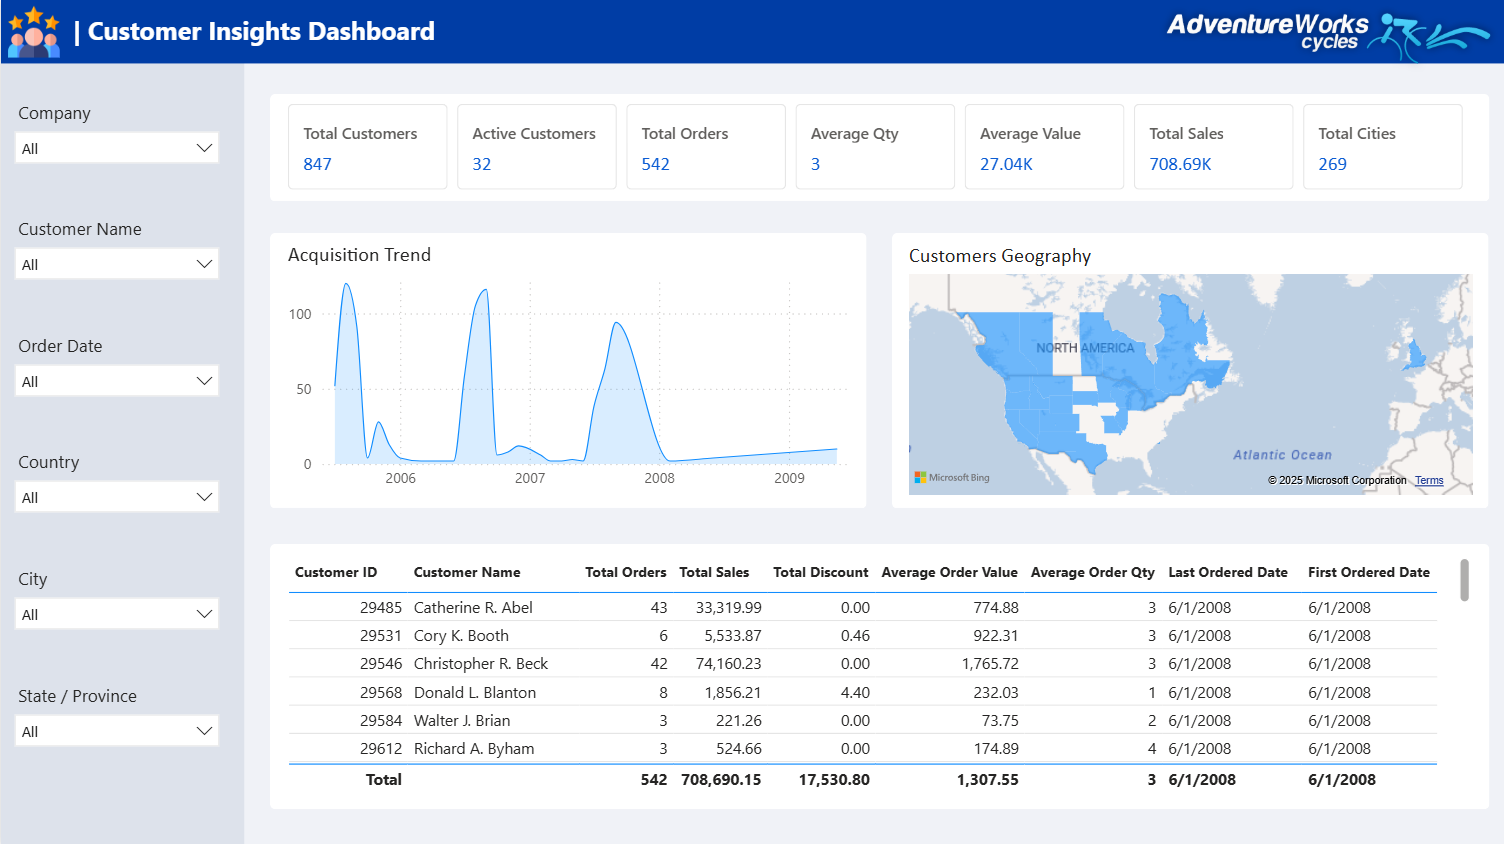

The dashboard page shown, as its layout file describes it:
{"tool":"powerbi","page":{"name":"Customer Insights","canvas":[1280,720],"ordinal":0},"visuals":[{"type":"shape","box":[0,21.4,207.2,698.4],"z":0},{"type":"shape","box":[0,0,1280,54.5],"z":2000},{"type":"shape","box":[228.6,79.8,1037.8,91.4],"z":3000},{"type":"shape","box":[228.6,198.4,507.7,234.4],"z":4000},{"type":"shape","box":[758.7,198.4,507.7,234.4],"z":5000},{"type":"shape","box":[228.6,463,1037.8,225.7],"z":6000},{"type":"image","box":[980.4,0,299.6,66.1],"z":7000},{"type":"cardVisual","fields":{"Data":["MyMeasures.New Customers (Last 30 Days)","MyMeasures.Active Customers","MyMeasures.Total Customers","MyMeasures.Average Qty","MyMeasures.Average Value","MyMeasures.Total Sales","MyMeasures.Total Cities"]},"box":[239.3,83.6,1016.4,83.6],"z":8000},{"type":"image","box":[0,0,56.4,54.5],"z":8001},{"type":"textbox","box":[56.4,5.8,395.9,48.6],"z":8002},{"type":"lineChart","title":"Acquisition Trend","fields":{"Category":["dim_customers.Modified_Date"],"Y":["MyMeasures.Total Customers"]},"box":[239.3,205.2,490.2,219.8],"z":8003},{"type":"filledMap","title":"Customers Geography","fields":{"Category":["dim_address.State_Province"]},"box":[767.4,206.2,490.2,219.8],"z":8004},{"type":"tableEx","fields":{"Values":["dim_customers.Customer_ID","dim_customers.Full_Name","MyMeasures.Total Orders","MyMeasures.Total Sales","MyMeasures.Total Discount","MyMeasures.Average Order Value","MyMeasures.Average Qty","MyMeasures.Last Ordered Date","MyMeasures.First Ordered Date"]},"box":[239.4,469.8,1016.3,209.1],"z":8005},{"type":"slicer","fields":{"Values":["dim_customers.Company_Name"]},"box":[2,79.8,194,77.8],"z":8006},{"type":"slicer","fields":{"Values":["dim_customers.Full_Name"]},"box":[2,179,194,77.8],"z":8007},{"type":"slicer","fields":{"Values":["dim_date.Year","dim_date.Month Name"]},"box":[2,278.2,194,77.8],"z":8008},{"type":"slicer","fields":{"Values":["dim_address.Country_Region"]},"box":[2,377.4,194,77.8],"z":8009},{"type":"slicer","fields":{"Values":["dim_address.City"]},"box":[2,476.6,194,77.8],"z":8010},{"type":"slicer","fields":{"Values":["dim_address.State_Province"]},"box":[2,575.8,194,77.8],"z":8011}]}

Visuals, with their boxes in screenshot pixels (x1, y1, x2, y2), scaled from the page's 1280x720 canvas onto the 1504x844 screenshot:
shape: (left=0, top=25, right=243, bottom=843)
shape: (left=0, top=0, right=1503, bottom=64)
shape: (left=269, top=94, right=1488, bottom=201)
shape: (left=269, top=233, right=865, bottom=507)
shape: (left=891, top=233, right=1488, bottom=507)
shape: (left=269, top=543, right=1488, bottom=807)
image: (left=1152, top=0, right=1503, bottom=77)
cardVisual - MyMeasures.New Customers (Last 30 Days) x MyMeasures.Active Customers: (left=281, top=98, right=1475, bottom=196)
image: (left=0, top=0, right=66, bottom=64)
textbox: (left=66, top=7, right=531, bottom=64)
"Acquisition Trend" lineChart: (left=281, top=241, right=857, bottom=498)
"Customers Geography" filledMap: (left=902, top=242, right=1478, bottom=499)
tableEx - dim_customers.Customer_ID x dim_customers.Full_Name: (left=281, top=551, right=1475, bottom=796)
slicer - dim_customers.Company_Name: (left=2, top=94, right=230, bottom=185)
slicer - dim_customers.Full_Name: (left=2, top=210, right=230, bottom=301)
slicer - dim_date.Year x dim_date.Month Name: (left=2, top=326, right=230, bottom=417)
slicer - dim_address.Country_Region: (left=2, top=442, right=230, bottom=534)
slicer - dim_address.City: (left=2, top=559, right=230, bottom=650)
slicer - dim_address.State_Province: (left=2, top=675, right=230, bottom=766)
